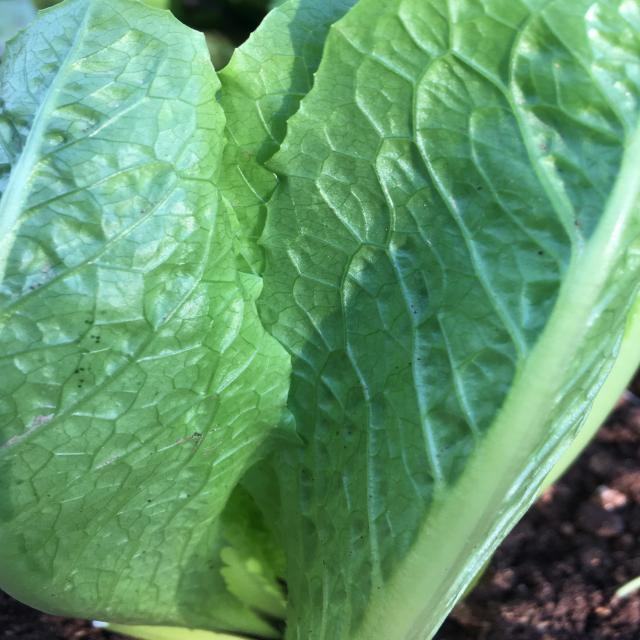Healthy Lettuce: (2, 2, 290, 630)
